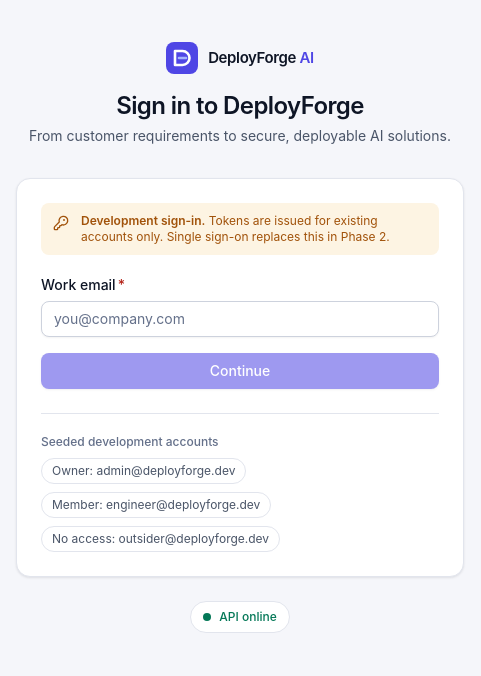
Test: application shell › explains rejected sign-in attempts
The image size is (481, 676).
Type "stranger@example.com" into the field labelled "Work email*" at (240, 318), box [41, 300, 439, 336]
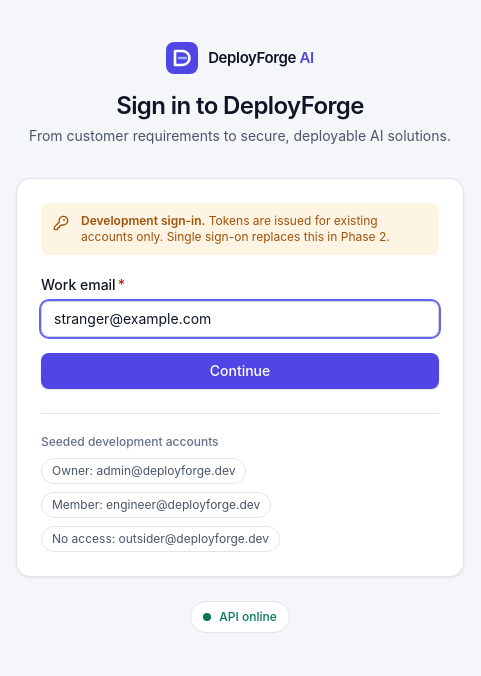
Click the button "Continue" at (240, 370), box [41, 352, 439, 388]
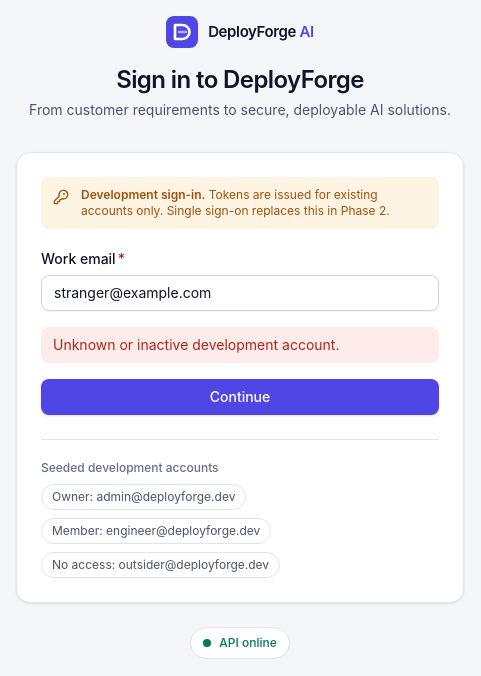
Expected: the message "Unknown or inactive development account." is shown, [41, 326, 439, 362]
